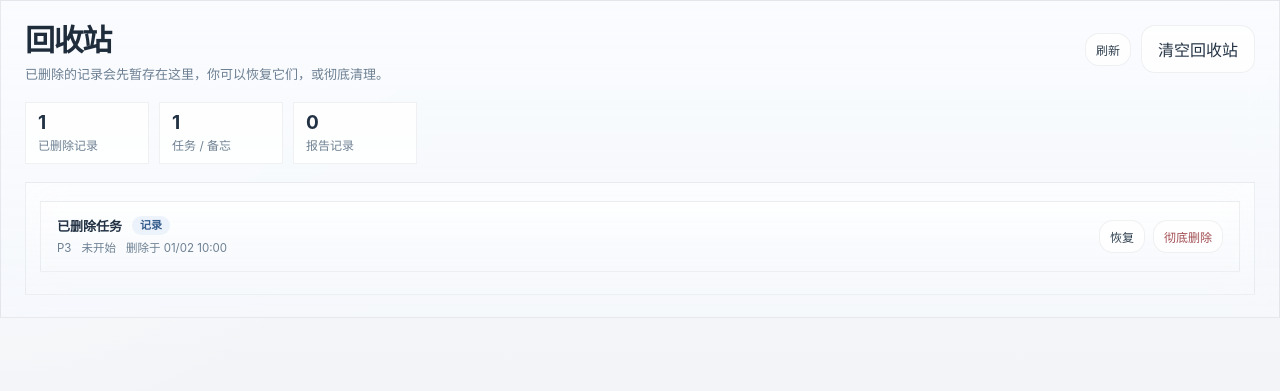
it: TrashPage › loads deleted records and restores them
expect the text "已删除任务" is shown: met, box [57,216,122,235]
Click the button "恢复".
click(1122, 236)  # box [1099,220,1145,253]
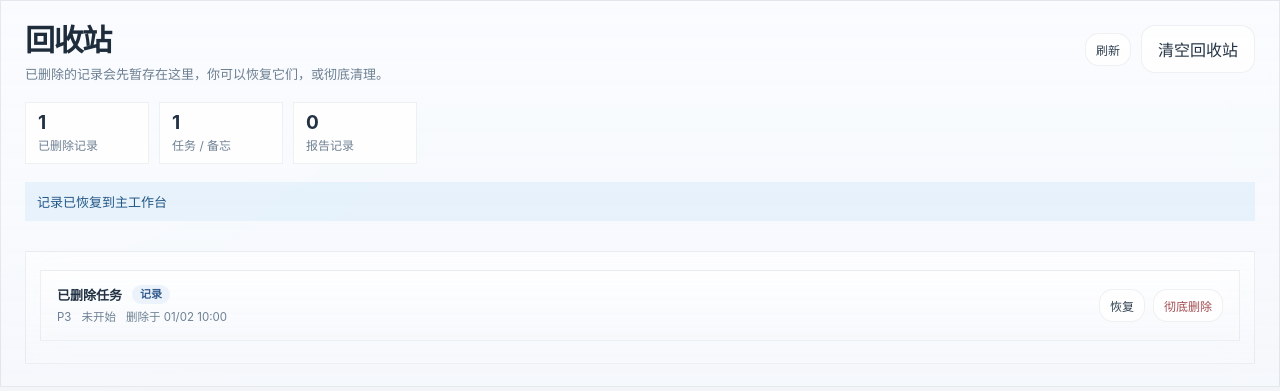
expect the text "记录已恢复到主工作台" is shown: met, box [25,182,1255,221]
